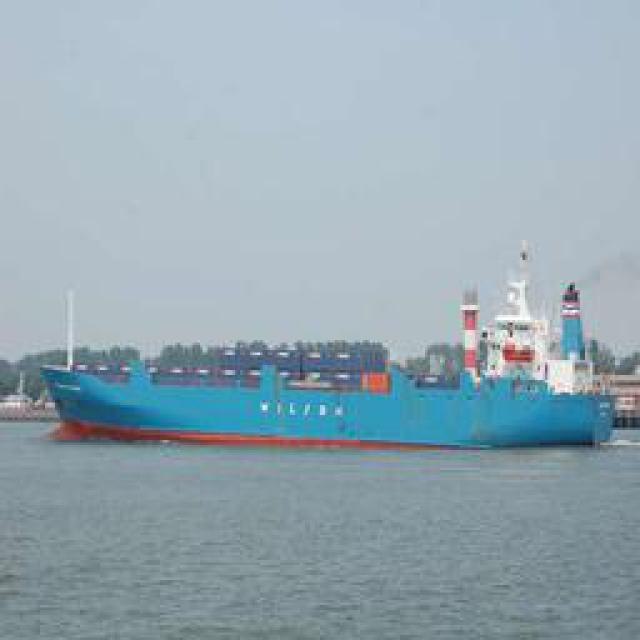Ship: (48, 337, 623, 450)
